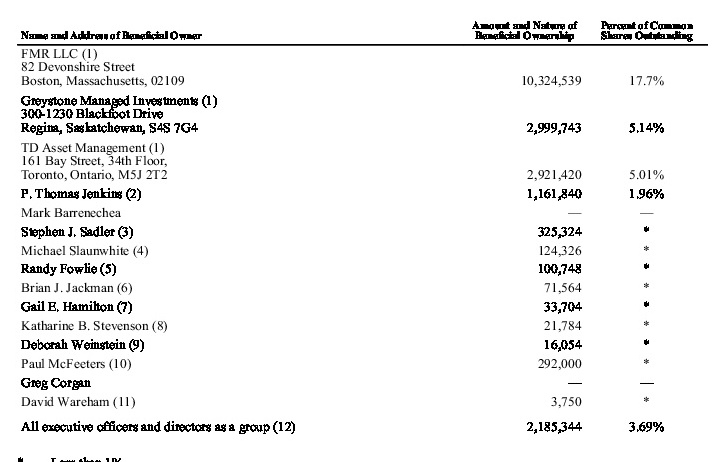table: (0, 0, 719, 462)
